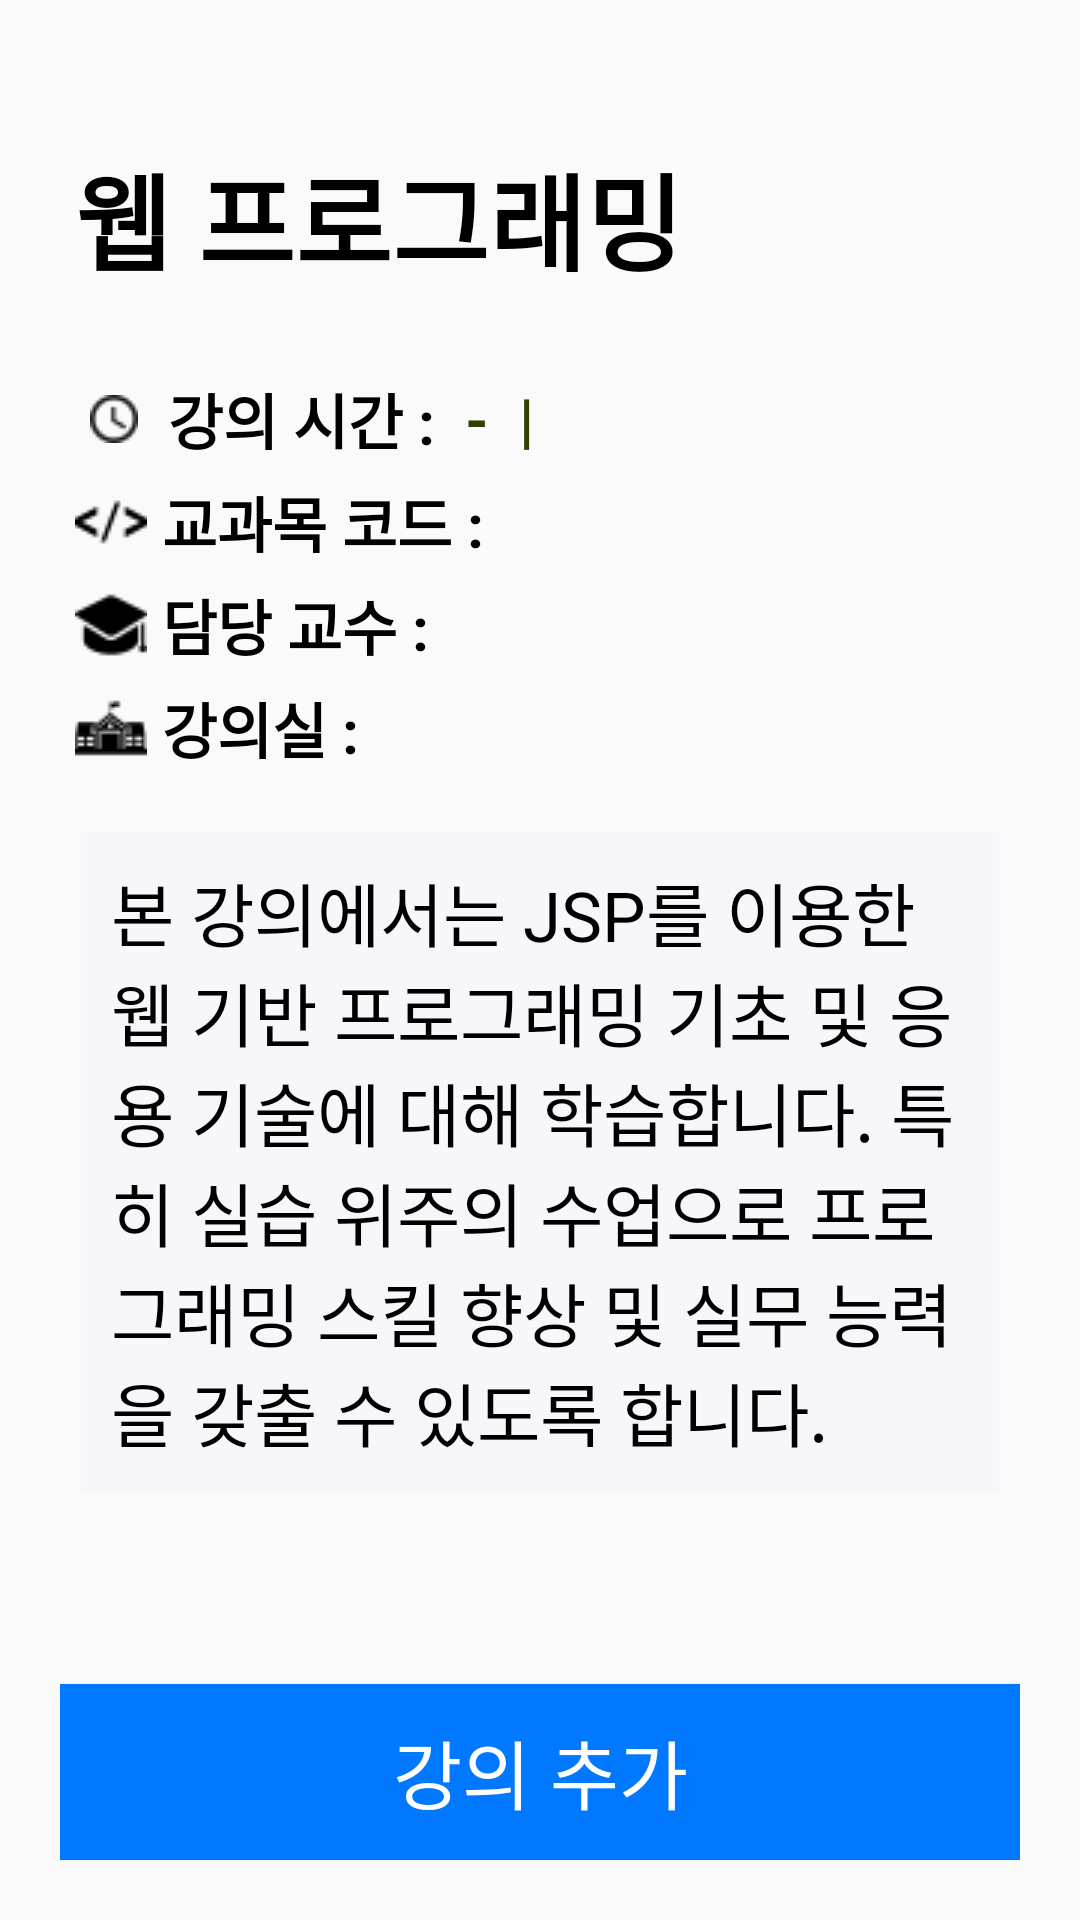

Icon bounding boxes for this 1080x1920 phone screenshot, format {"left": x1, "top": y1, "right": x2, "bottom": y2}:
code: {"left": 75, "top": 500, "right": 147, "bottom": 544}
location: {"left": 75, "top": 700, "right": 147, "bottom": 756}
professor: {"left": 75, "top": 594, "right": 147, "bottom": 656}
time: {"left": 90, "top": 395, "right": 138, "bottom": 443}
